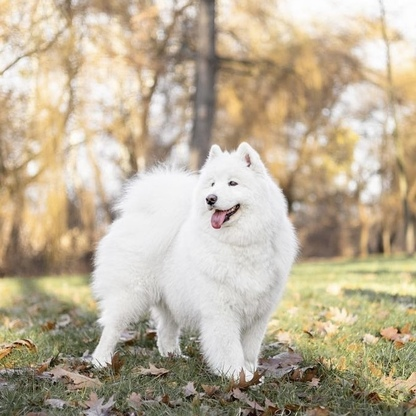samoyed: (79, 137, 304, 389)
